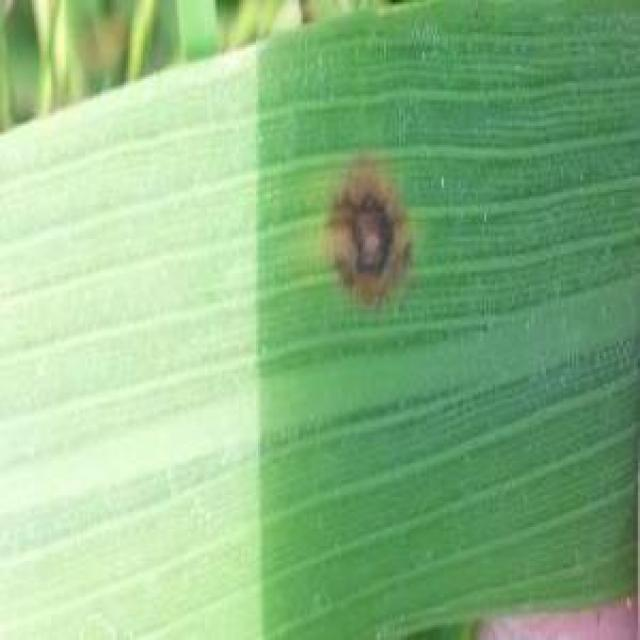Brown_Spot: (296, 162, 432, 303)
